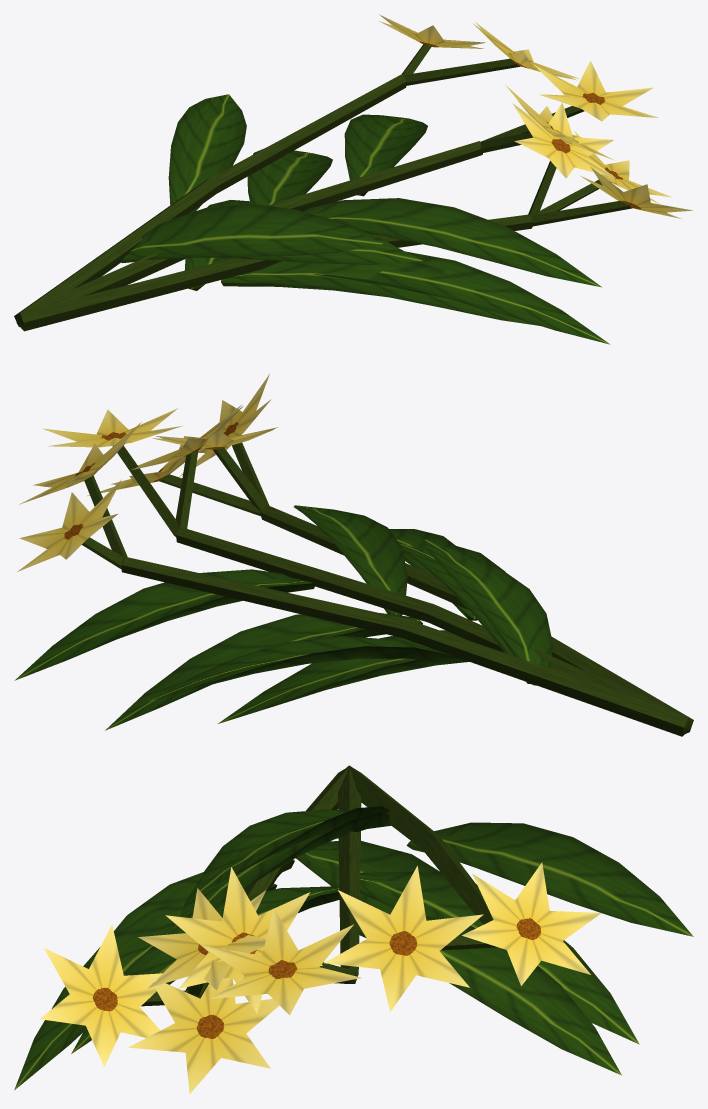
Rendered from item_herb01.glb.
3 views of the same model, one above another, from view 1: azimuth 30°, elevation 25°; view 2: azimuth 150°, elevation 25°; view 3: azimuth 270°, elevation 25° (orthographic). The views are drawn at different scales.
Visible parts, largest first — view 1: herb01; view 2: herb01; view 3: herb01.
Part boxes in pixels (x1,y1,x2,y2): herb01: (14, 14, 692, 344); herb01: (14, 374, 693, 736); herb01: (14, 765, 693, 1093).
Bounding box in the file's own units: 0.8282 × 0.2528 × 0.6477.
Materials: 1 (1 with a texture image).
